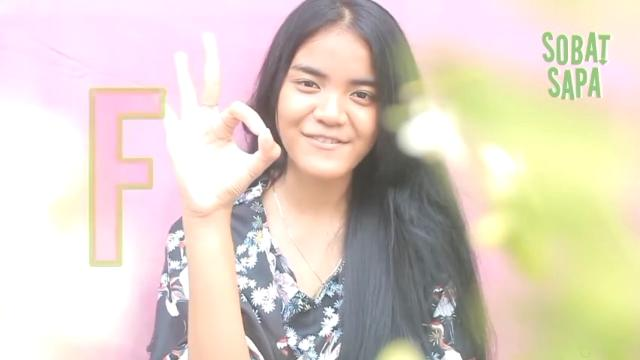F: (153, 29, 285, 219)
